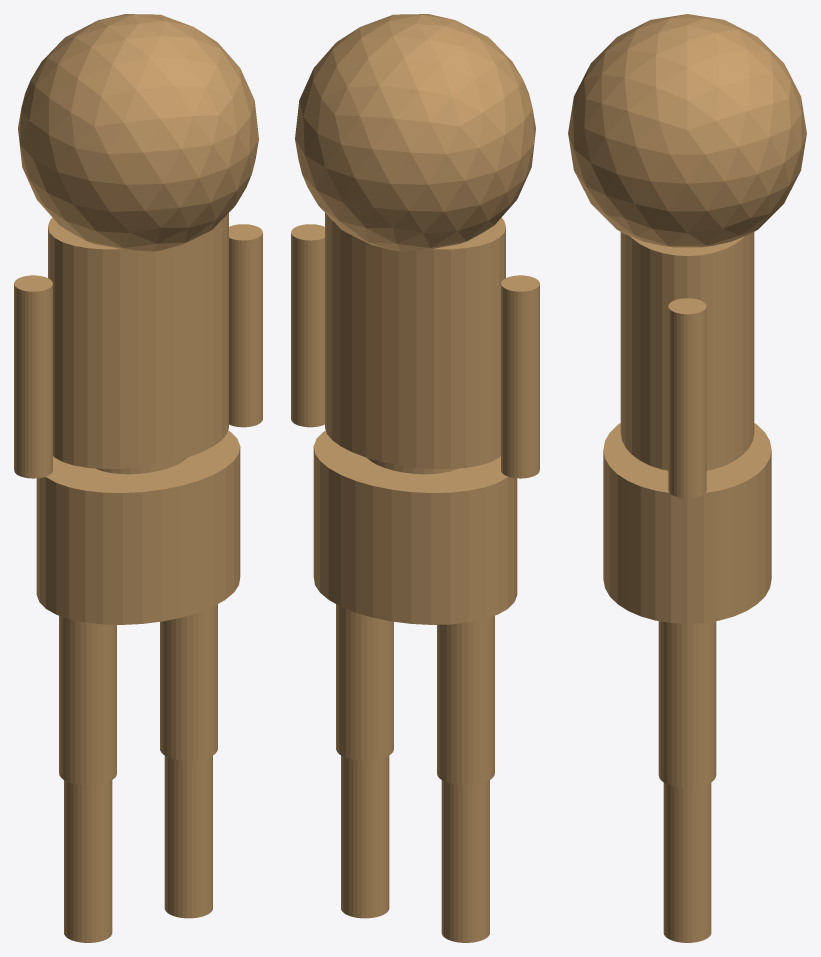
The picture shows the model from 3 angles, left to right: view 1: azimuth 30°, elevation 25°; view 2: azimuth 150°, elevation 25°; view 3: azimuth 270°, elevation 25°; orthographic projection.
Parts seen in each view (by area): view 1: Torso; view 2: Torso; view 3: Torso.
Part boxes in pixels (x1,y1,x2,y2): Torso: (14, 14, 262, 942); Torso: (291, 14, 539, 942); Torso: (568, 14, 806, 942).
Bounding box in the file's own units: 0.58 × 2.04 × 0.5.
